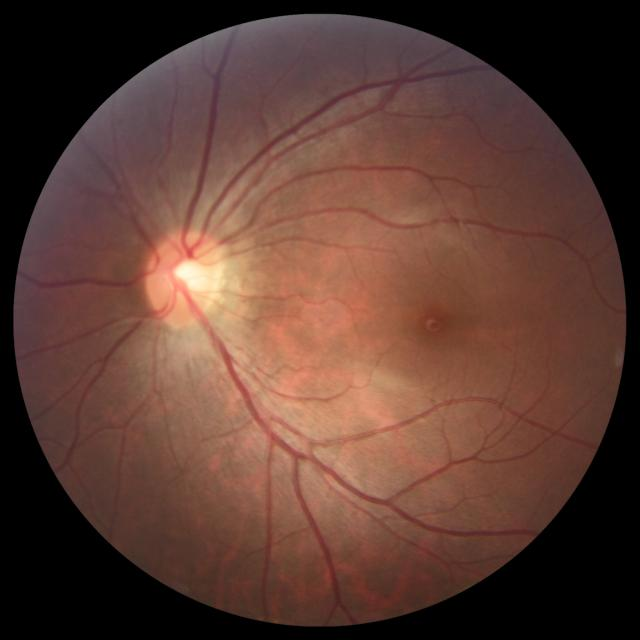OC: (165, 253, 209, 296)
OD: (146, 228, 225, 324)
